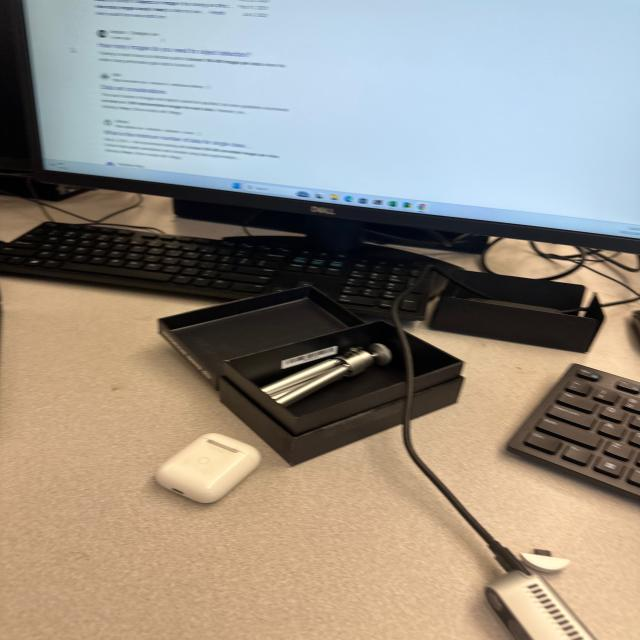monitor: (0, 215, 435, 331), (501, 354, 640, 509)
robotic-arm: (0, 0, 640, 257)
